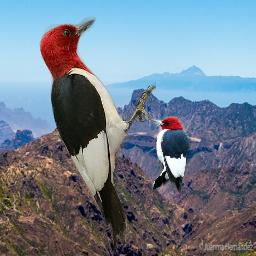Woodpecker: (37, 15, 156, 249), (150, 114, 191, 194)
